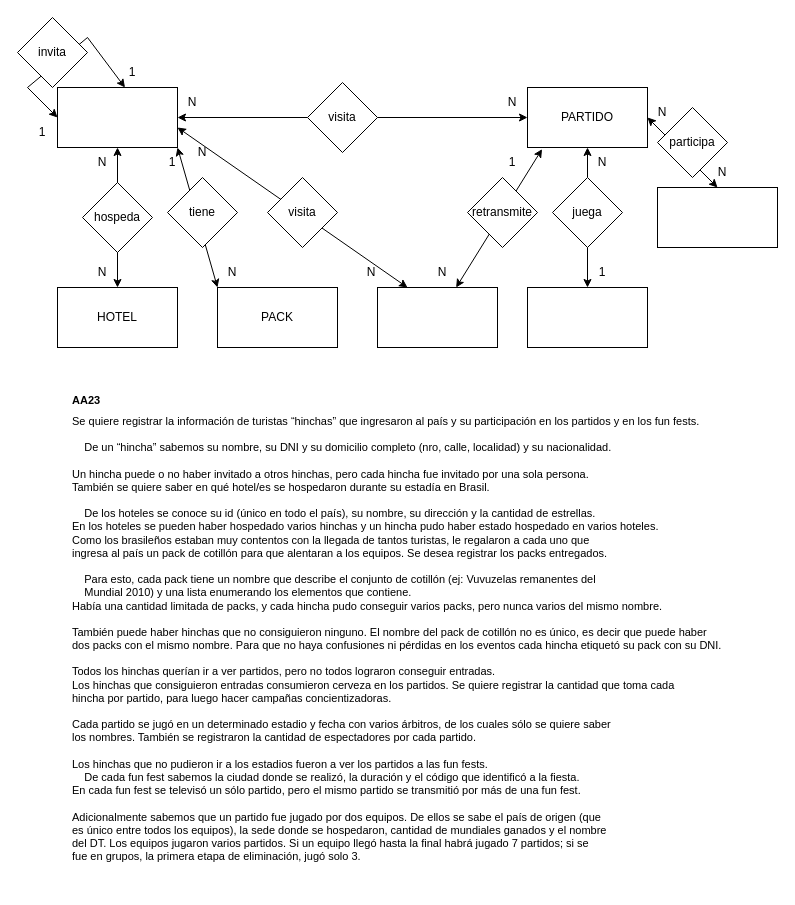
Some shapes in this 795 by 905 pixel diagram are drawn without their labels. Here are the shapes that lost their labels. From the top down, the centre of each, then its label:
the point at 117,117: HINCHA
the point at 717,217: EQUIPO
the point at 437,317: FUN FEST
the point at 587,317: ESTADIO
